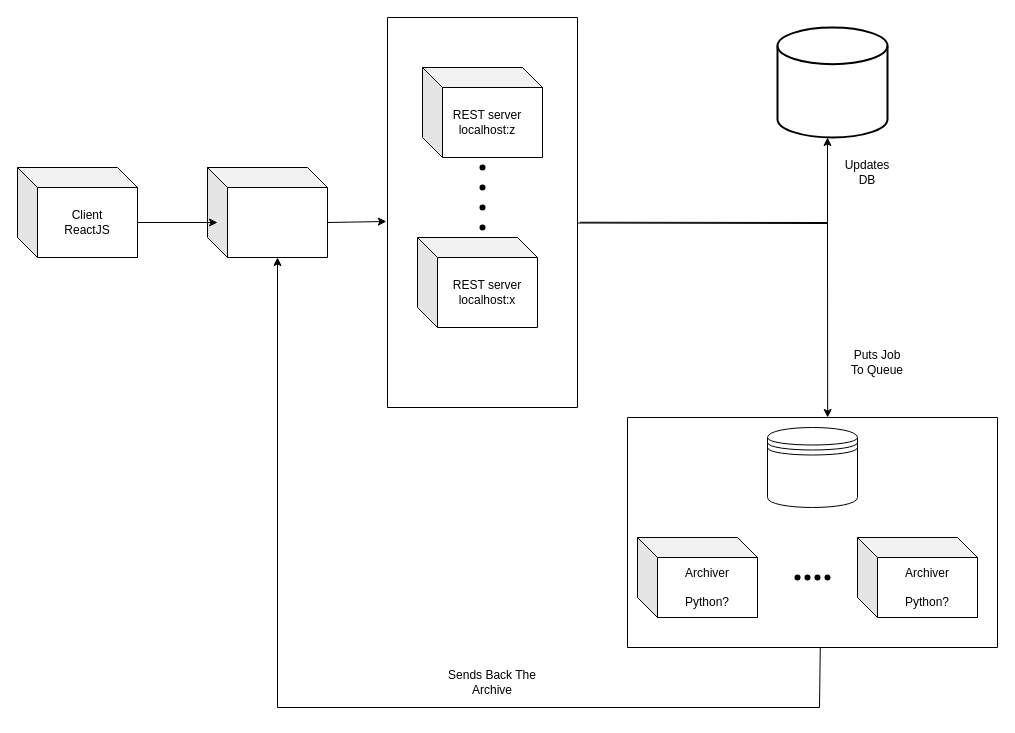
This 1015x733 diagram has some shape labels left out. Each missing label, with the centre of its shape:
LoadBalancer localhost:80: point (267, 212)
Message Broker localhost:x: point (812, 467)
RDMS localhost:x: point (832, 82)
